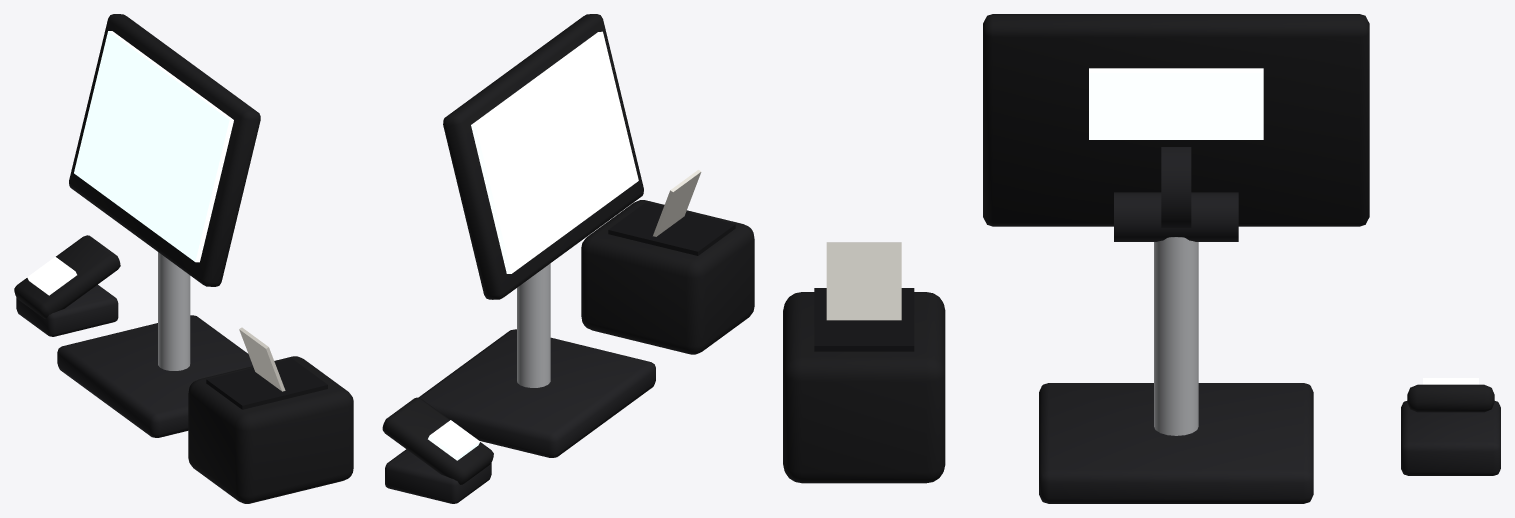
File: till_pos.glb
3 renders of one model, left to right at view 1: azimuth 30°, elevation 25°; view 2: azimuth 150°, elevation 25°; view 3: azimuth 270°, elevation 25°, orthographic. The views are drawn at different scales.
Parts seen in each view (by area): view 1: ScreenLit_LOD0, Printer_LOD0, Base_LOD0, Screen_LOD0, Reader_LOD0, Stem_LOD0, Slot_LOD0, Cradle_LOD0, Receipt_LOD0, ReaderLit_LOD0; view 2: ScreenLit_LOD0, Printer_LOD0, Base_LOD0, Screen_LOD0, Reader_LOD0, Stem_LOD0, Slot_LOD0, Cradle_LOD0, Receipt_LOD0, ReaderLit_LOD0; view 3: Screen_LOD0, Base_LOD0, Printer_LOD0, Customer_LOD0, Stem_LOD0, Cradle_LOD0, Receipt_LOD0, Hinge_LOD0, Slot_LOD0, Neck_LOD0, Reader_LOD0.
Part boxes in pixels (left/top/right/bottom): ScreenLit_LOD0: left=74, top=31, right=233, bottom=262; Printer_LOD0: left=188, top=356, right=353, bottom=503; Base_LOD0: left=57, top=315, right=252, bottom=437; Screen_LOD0: left=69, top=14, right=260, bottom=286; Reader_LOD0: left=14, top=235, right=120, bottom=318; Stem_LOD0: left=158, top=252, right=190, bottom=370; Slot_LOD0: left=206, top=358, right=327, bottom=409; Cradle_LOD0: left=16, top=284, right=118, bottom=336; Receipt_LOD0: left=239, top=327, right=285, bottom=391; ReaderLit_LOD0: left=27, top=256, right=76, bottom=295; ScreenLit_LOD0: left=471, top=31, right=638, bottom=273; Printer_LOD0: left=581, top=200, right=754, bottom=354; Base_LOD0: left=418, top=329, right=655, bottom=457; Screen_LOD0: left=443, top=14, right=643, bottom=299; Reader_LOD0: left=382, top=397, right=493, bottom=484; Stem_LOD0: left=517, top=263, right=550, bottom=387; Slot_LOD0: left=608, top=202, right=735, bottom=255; Cradle_LOD0: left=385, top=449, right=491, bottom=503; Receipt_LOD0: left=653, top=170, right=701, bottom=236; ReaderLit_LOD0: left=428, top=420, right=480, bottom=460; Screen_LOD0: left=983, top=14, right=1369, bottom=226; Base_LOD0: left=1039, top=383, right=1313, bottom=503; Printer_LOD0: left=783, top=292, right=945, bottom=483; Customer_LOD0: left=1089, top=68, right=1263, bottom=139; Stem_LOD0: left=1154, top=237, right=1198, bottom=435; Cradle_LOD0: left=1401, top=401, right=1500, bottom=475; Receipt_LOD0: left=826, top=242, right=901, bottom=320; Hinge_LOD0: left=1114, top=192, right=1238, bottom=241; Slot_LOD0: left=814, top=288, right=914, bottom=351; Neck_LOD0: left=1161, top=147, right=1191, bottom=227; Reader_LOD0: left=1407, top=384, right=1494, bottom=412.
Bounding box in the file's own units: 0.185 × 0.3976 × 0.575.
